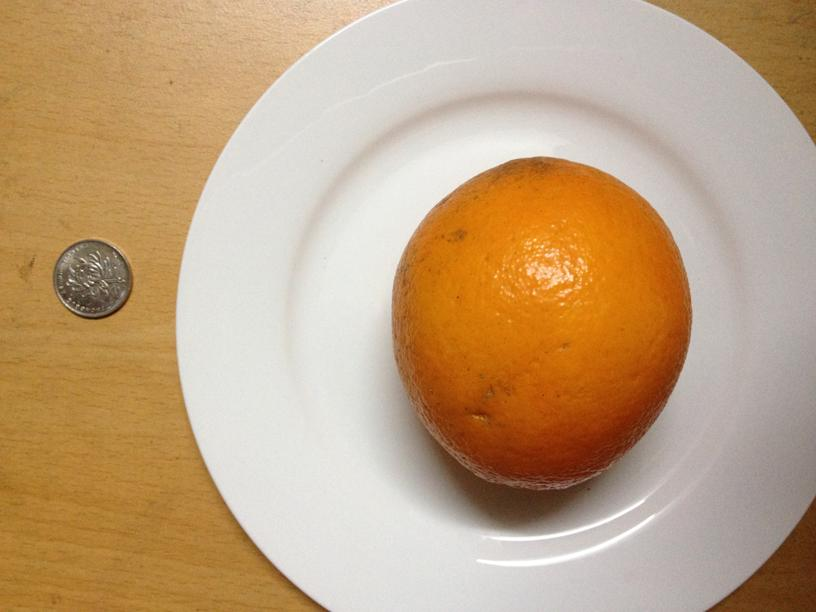coin: (51, 241, 131, 319)
orange: (392, 158, 690, 487)
